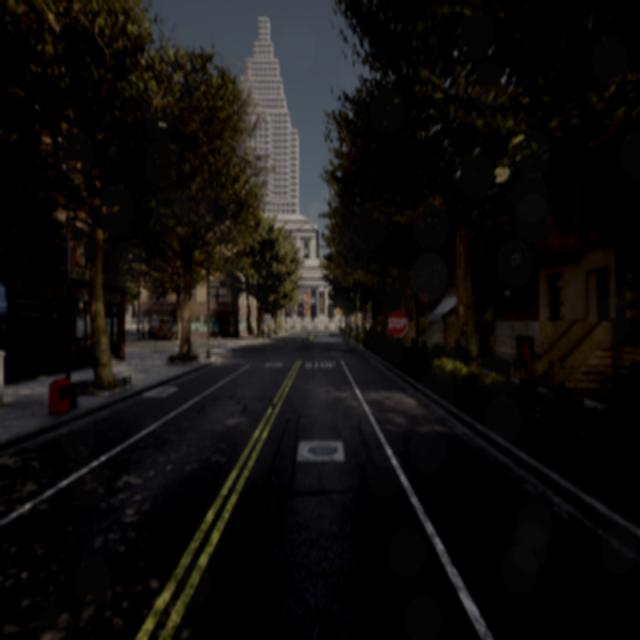stop sign: (384, 306, 410, 340)
